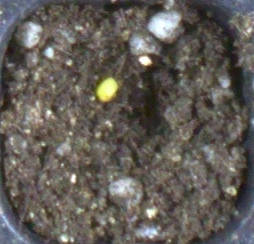pepper seed: (36, 25, 155, 129)
